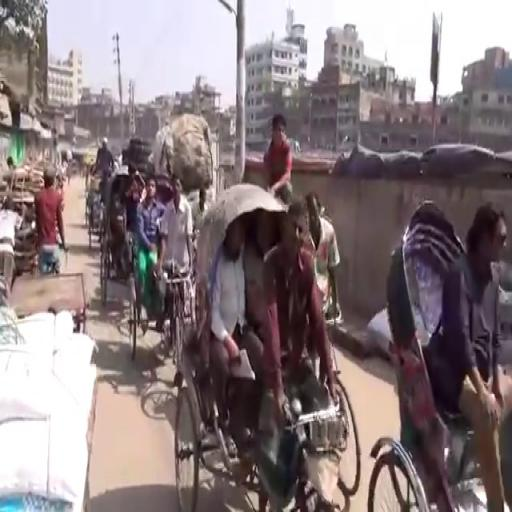rickshaw: (169, 179, 348, 512), (364, 196, 511, 509), (128, 168, 195, 374), (100, 159, 133, 307), (86, 159, 119, 246)
wheelbarrow: (6, 263, 92, 334)
